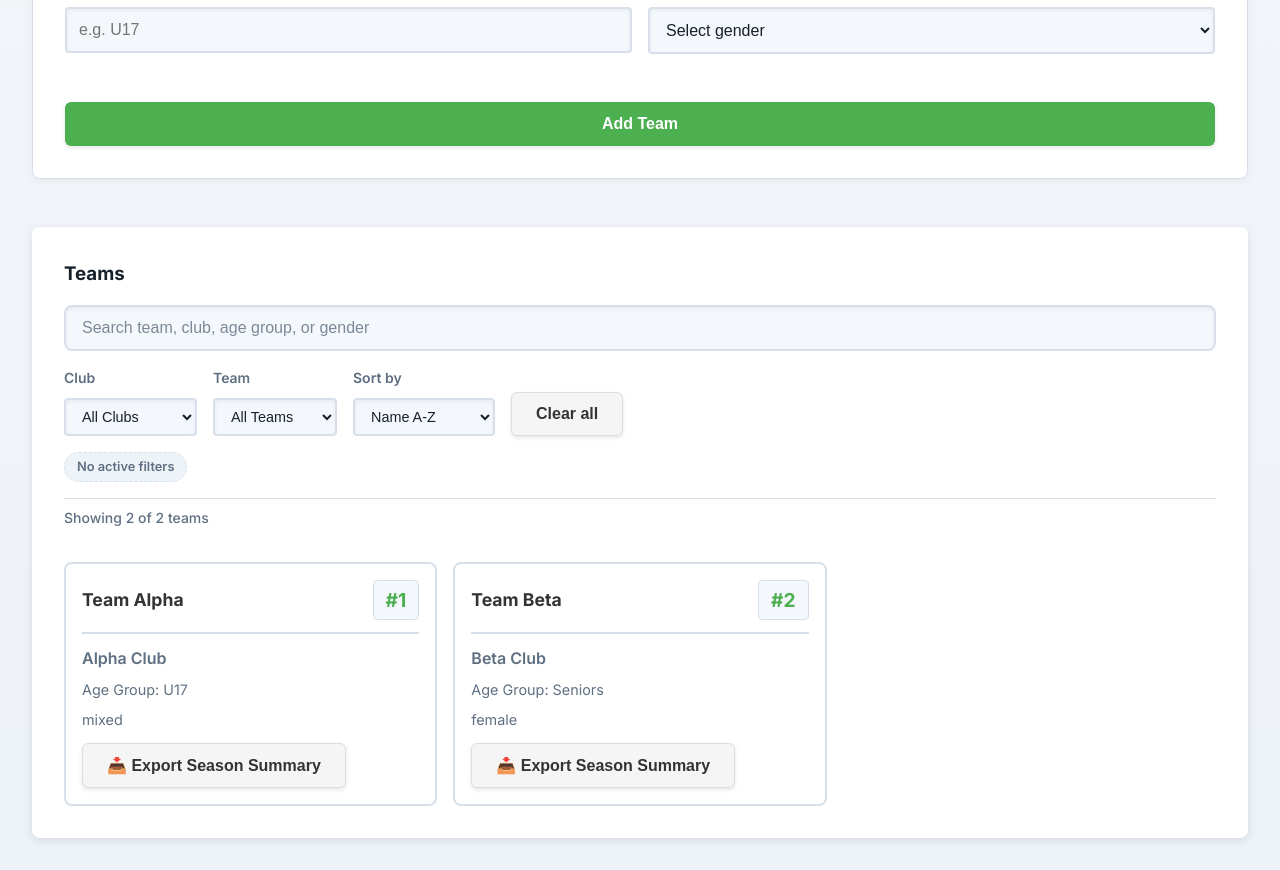
Team Management: Create, edit, and export › edits a team after clicking its card
(page scrolled)
Click the text "Team Alpha" at (251, 684), box [64,562,437,806]
(page scrolled)
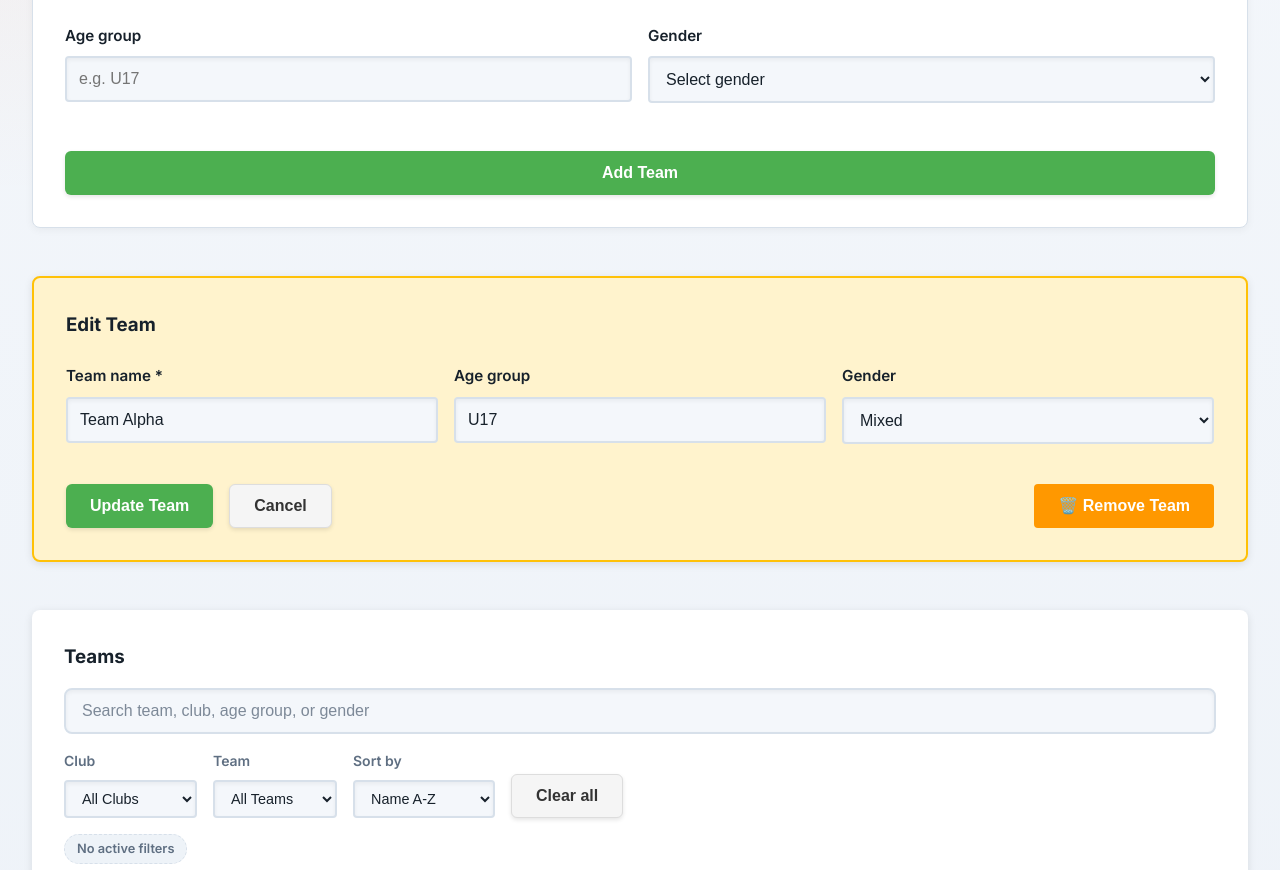
expect the heading "Edit Team" is shown: met, box [66,313,156,336]
Replace the text in the field with id "edit-team-name" with "Team Apex" at (252, 420), box [66,397,438,443]
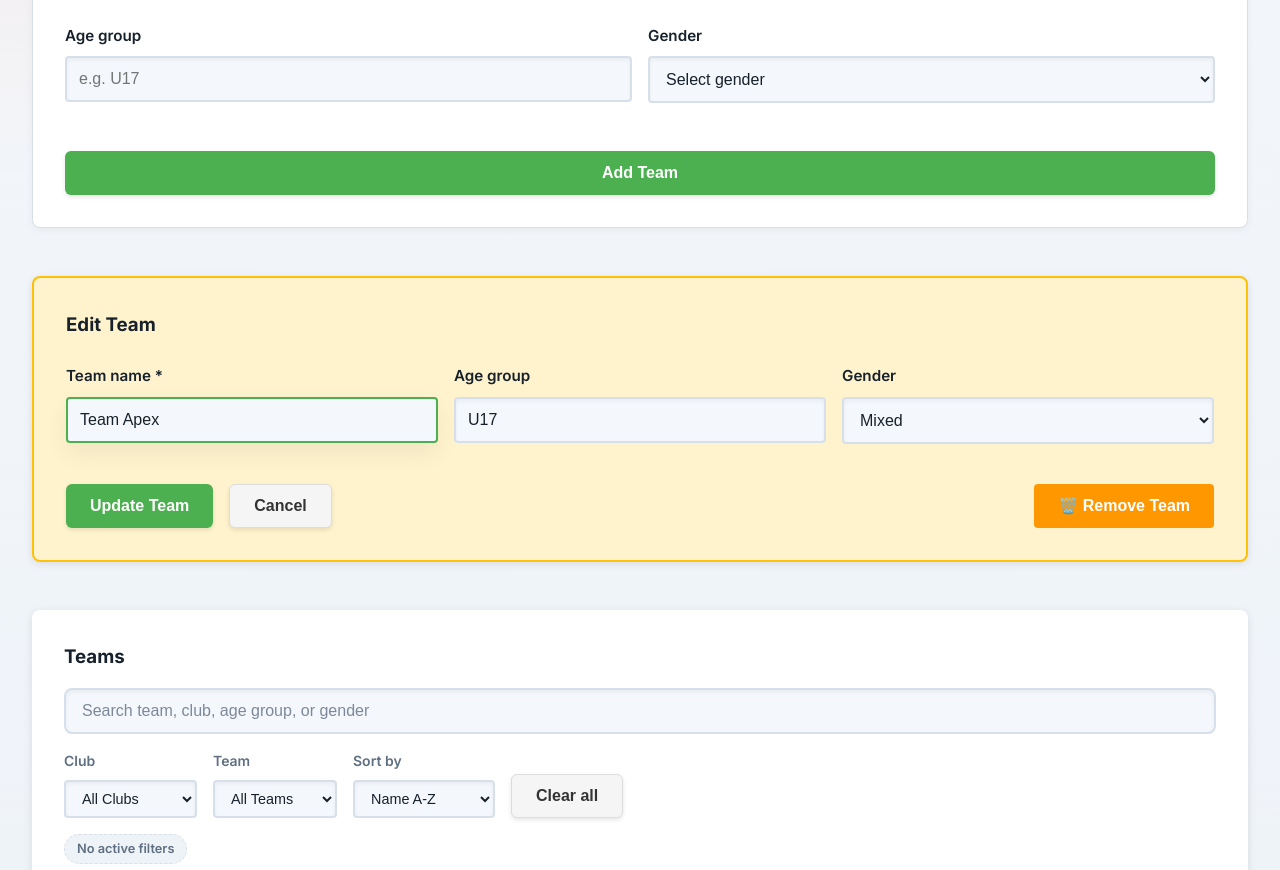
Replace the text in the field with id "edit-team-age-group" with "U19" at (640, 420), box [454,397,826,443]
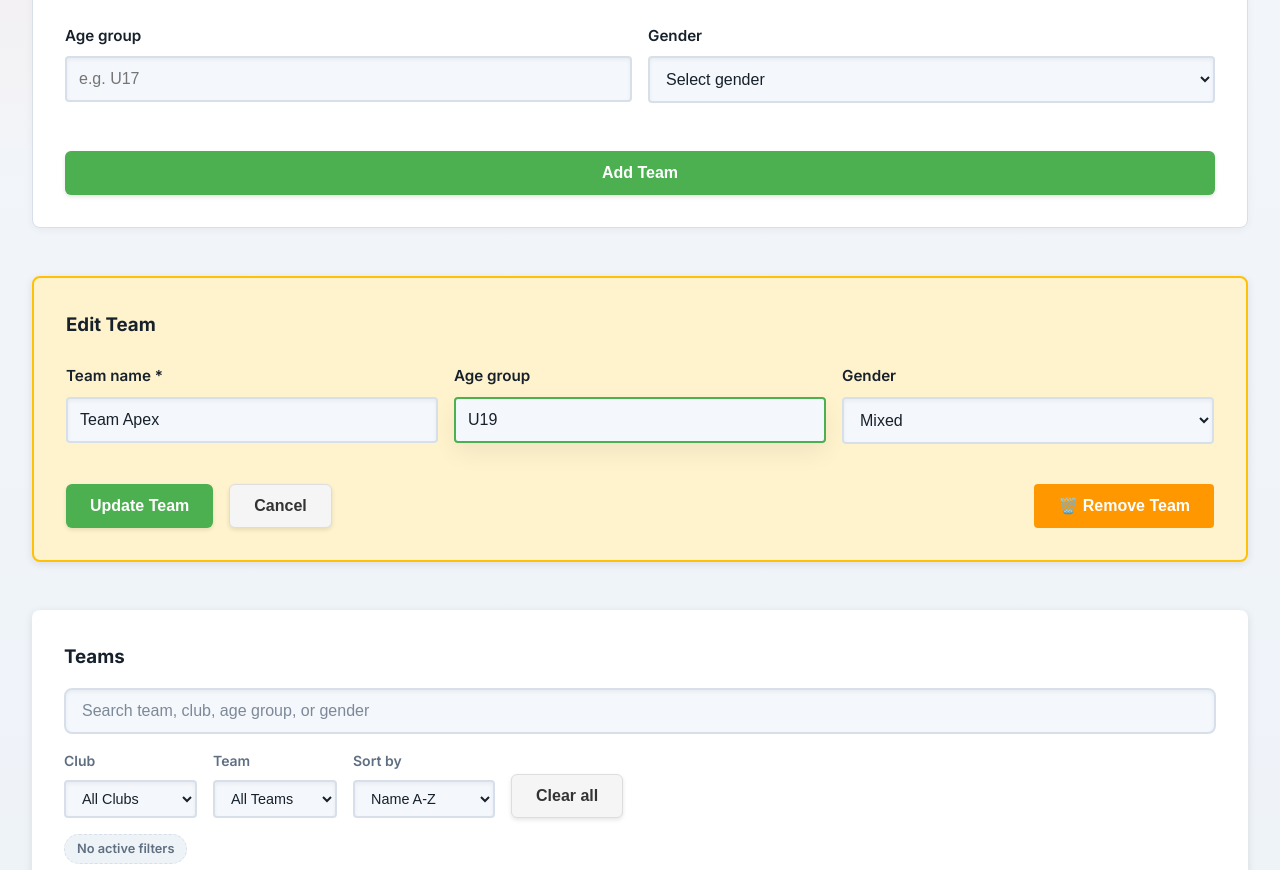
Select "Female" in the dropdown with id "edit-team-gender" at (1028, 421), box [842,397,1214,444]
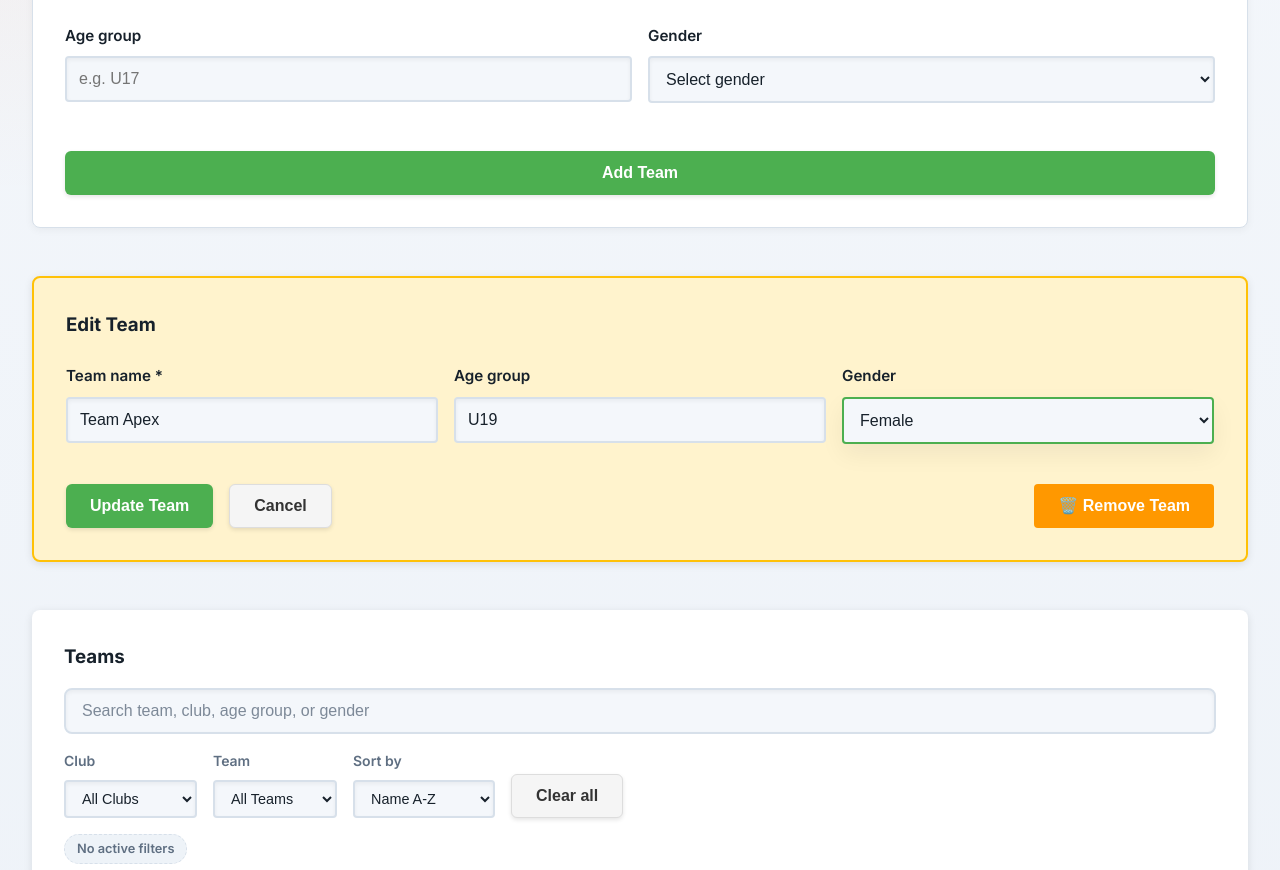
Click the button "Update Team" at (140, 506), box [66,484,213,528]
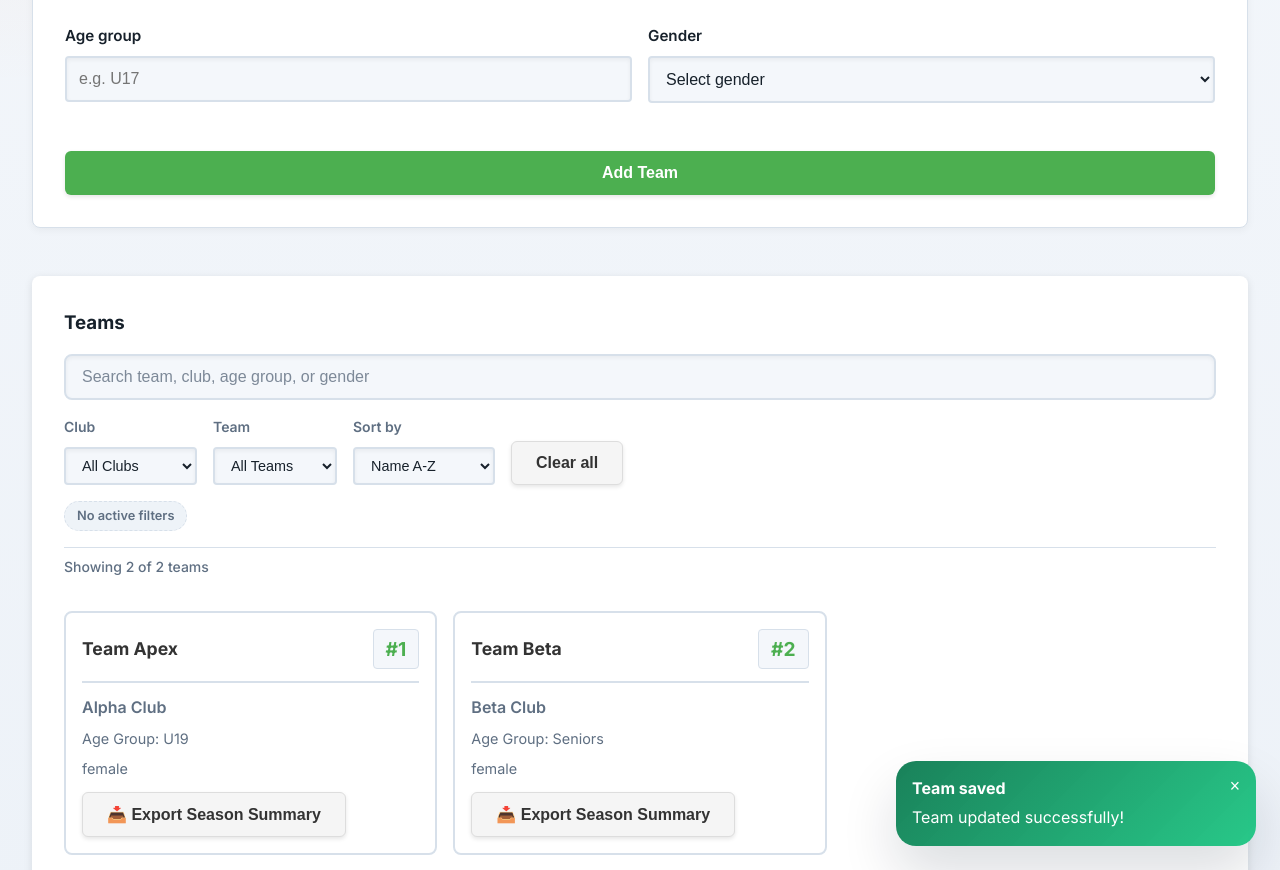
expect the text "Team Apex" is shown: met, box [82,638,178,659]
